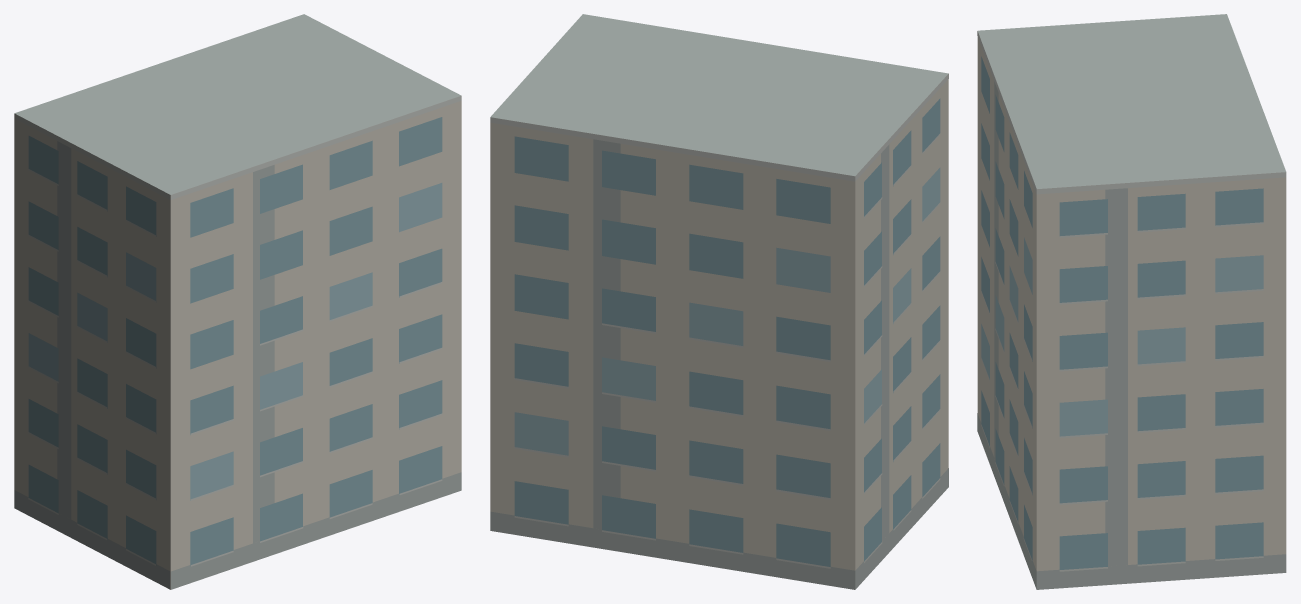
The model's file is survey-upis-32805822.glb.
3 views of the same model, side by side, from view 1: azimuth 30°, elevation 25°; view 2: azimuth 150°, elevation 25°; view 3: azimuth 270°, elevation 25° (orthographic). The views are drawn at different scales.
Parts seen in each view (by area): view 1: survey-upis-32805822.tmp; view 2: survey-upis-32805822.tmp; view 3: survey-upis-32805822.tmp.
Boxes of the visible parts, x1,y1,x2,y2 form: survey-upis-32805822.tmp: (14, 14, 461, 589); survey-upis-32805822.tmp: (490, 14, 948, 589); survey-upis-32805822.tmp: (977, 14, 1286, 589).
Size of the model in its own units: 17.54 by 18.7 by 13.07.
